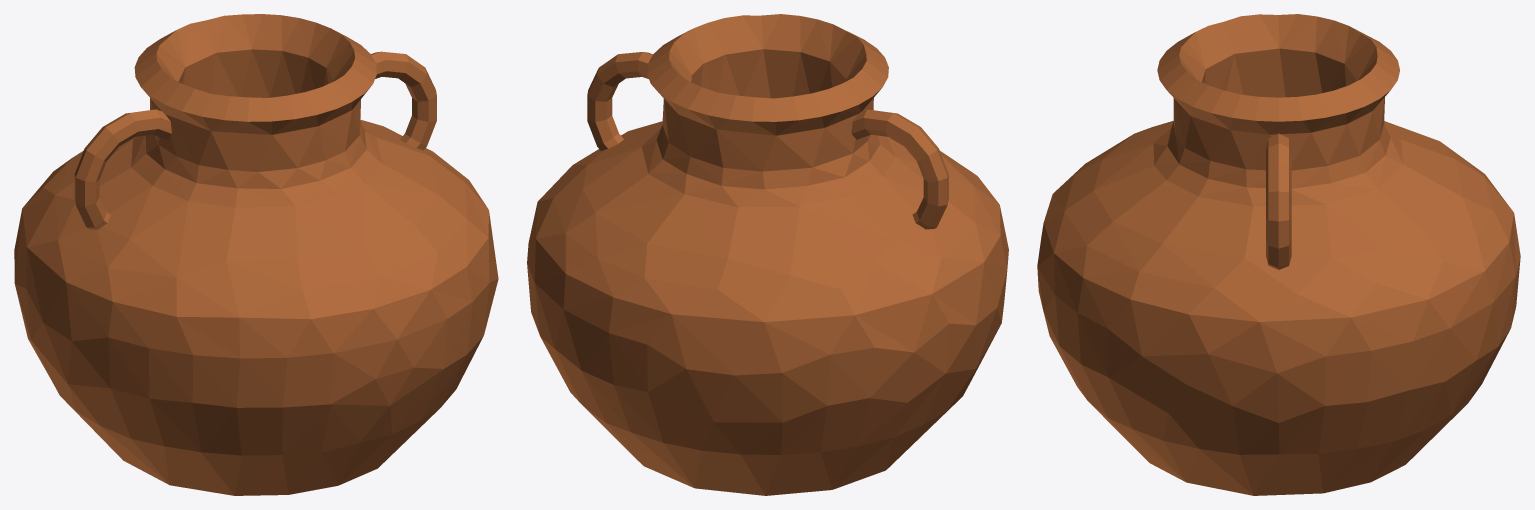
Rendered from Pottery 7_2b.fbx.
The picture shows the model from 3 angles, left to right: view 1: azimuth 30°, elevation 25°; view 2: azimuth 150°, elevation 25°; view 3: azimuth 270°, elevation 25°; orthographic projection.
Visible parts, largest first — view 1: Pottery 7_2b.004, Pottery 7_2b, Pottery 7_2b.005, Pottery 7_2b.001, Pottery 7_2b.003, Pottery 7_2b.006, Pottery 7_2b.002; view 2: Pottery 7_2b.001, Pottery 7_2b.008, Pottery 7_2b.002, Pottery 7_2b.003, Pottery 7_2b, Pottery 7_2b.006, Pottery 7_2b.007, Pottery 7_2b.004, Pottery 7_2b.005; view 3: Pottery 7_2b.006, Pottery 7_2b, Pottery 7_2b.005, Pottery 7_2b.007, Pottery 7_2b.002, Pottery 7_2b.001, Pottery 7_2b.004, Pottery 7_2b.008.
Part boxes in pixels (x1,y1,x2,y2): Pottery 7_2b.004: [108, 92, 396, 407]; Pottery 7_2b: [65, 336, 483, 495]; Pottery 7_2b.005: [306, 50, 498, 368]; Pottery 7_2b.001: [14, 38, 211, 322]; Pottery 7_2b.003: [15, 267, 192, 438]; Pottery 7_2b.006: [270, 15, 498, 276]; Pottery 7_2b.002: [147, 14, 282, 97]; Pottery 7_2b.001: [718, 54, 984, 354]; Pottery 7_2b.008: [555, 290, 830, 454]; Pottery 7_2b.002: [595, 67, 776, 313]; Pottery 7_2b.003: [827, 223, 1008, 446]; Pottery 7_2b: [540, 337, 957, 495]; Pottery 7_2b.006: [538, 23, 739, 201]; Pottery 7_2b.007: [527, 174, 647, 348]; Pottery 7_2b.004: [793, 19, 1008, 248]; Pottery 7_2b.005: [708, 14, 817, 98]; Pottery 7_2b.006: [1130, 85, 1381, 405]; Pottery 7_2b: [1037, 268, 1476, 495]; Pottery 7_2b.005: [1037, 55, 1240, 377]; Pottery 7_2b.007: [1277, 189, 1509, 405]; Pottery 7_2b.002: [1344, 34, 1513, 241]; Pottery 7_2b.001: [1224, 14, 1484, 175]; Pottery 7_2b.004: [1039, 22, 1243, 250]; Pottery 7_2b.008: [1468, 174, 1520, 402].
Bounding box in the file's own units: 53.28 × 45.94 × 52.98.
